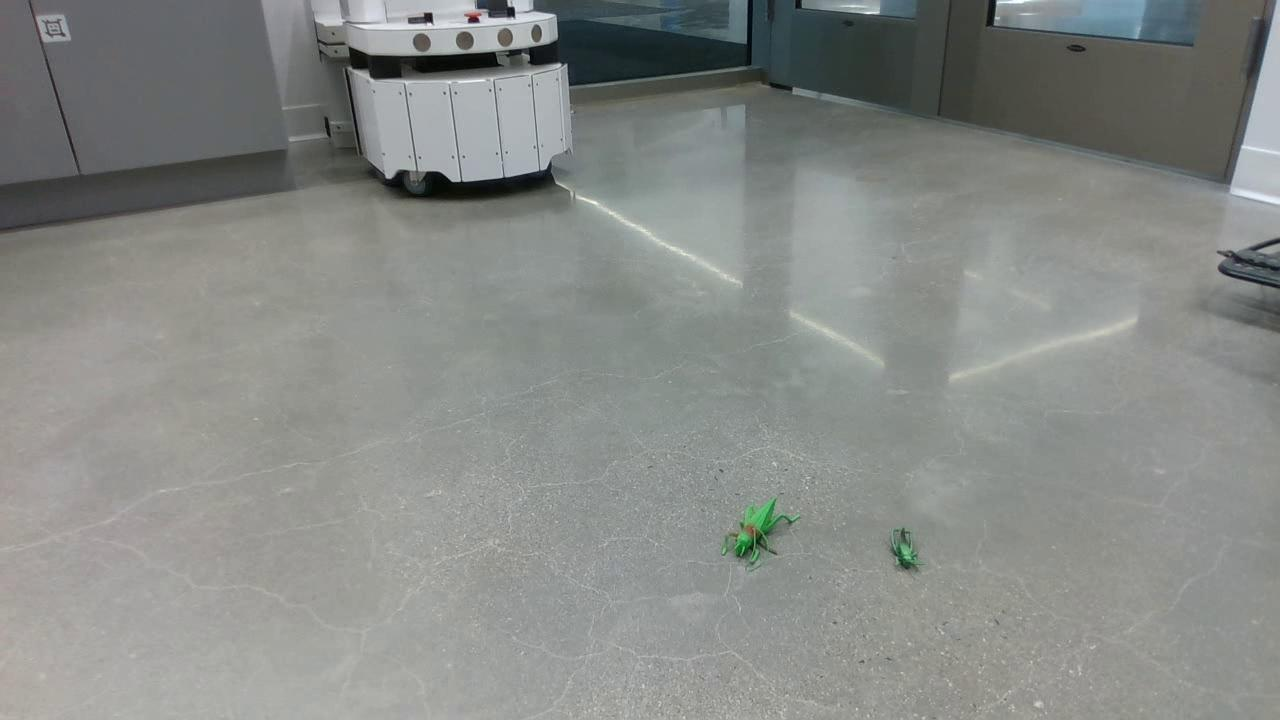grasshopper: (725, 501, 802, 563)
